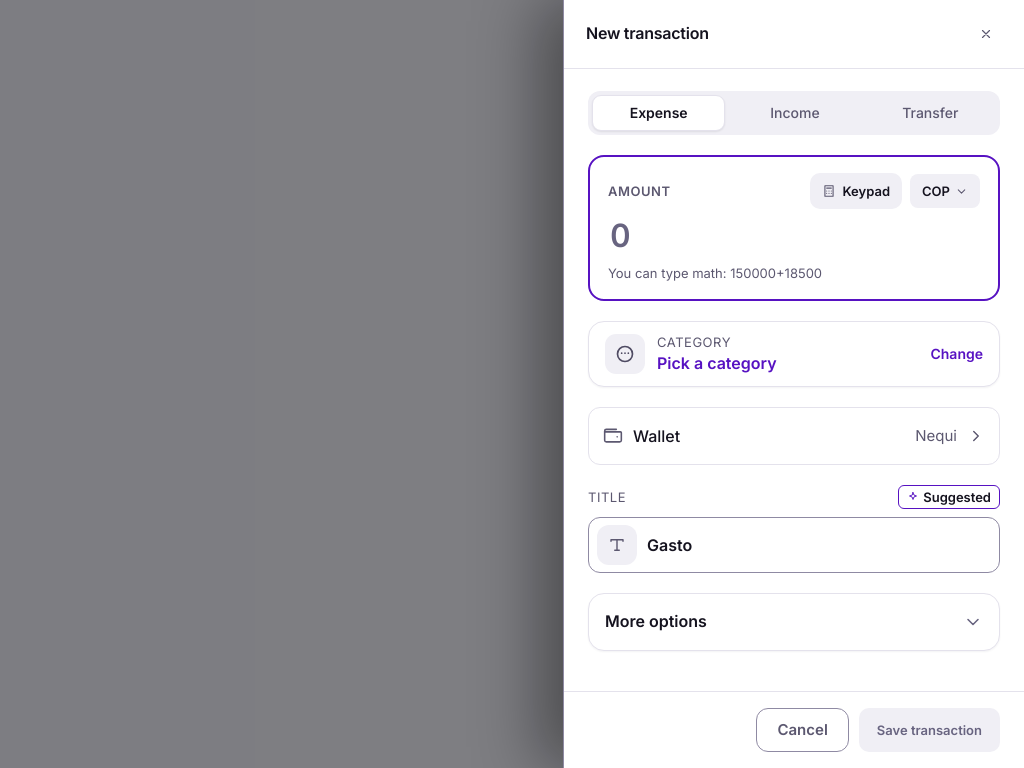
Test: English › shows Nuevo movimiento and the built-in categories in English
Check: the dialog "New transaction" is shown, box [563,0,1023,767]
Check: the radio button labelled "Expense" is shown, box [592,95,725,131]
Click the text "Pick a category" at (717, 362), box [657,352,777,372]
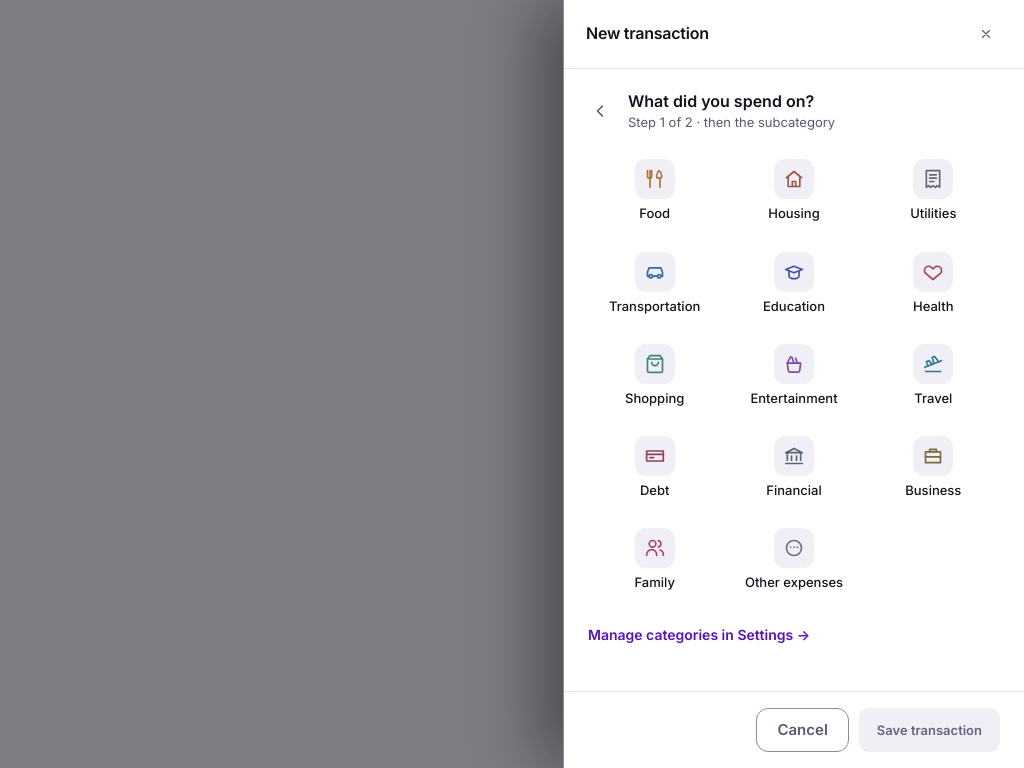
Check: the heading "What did you spend on?" is shown, box [628,91,814,111]
Check: the text "Food" is shown, box [639,205,670,221]
